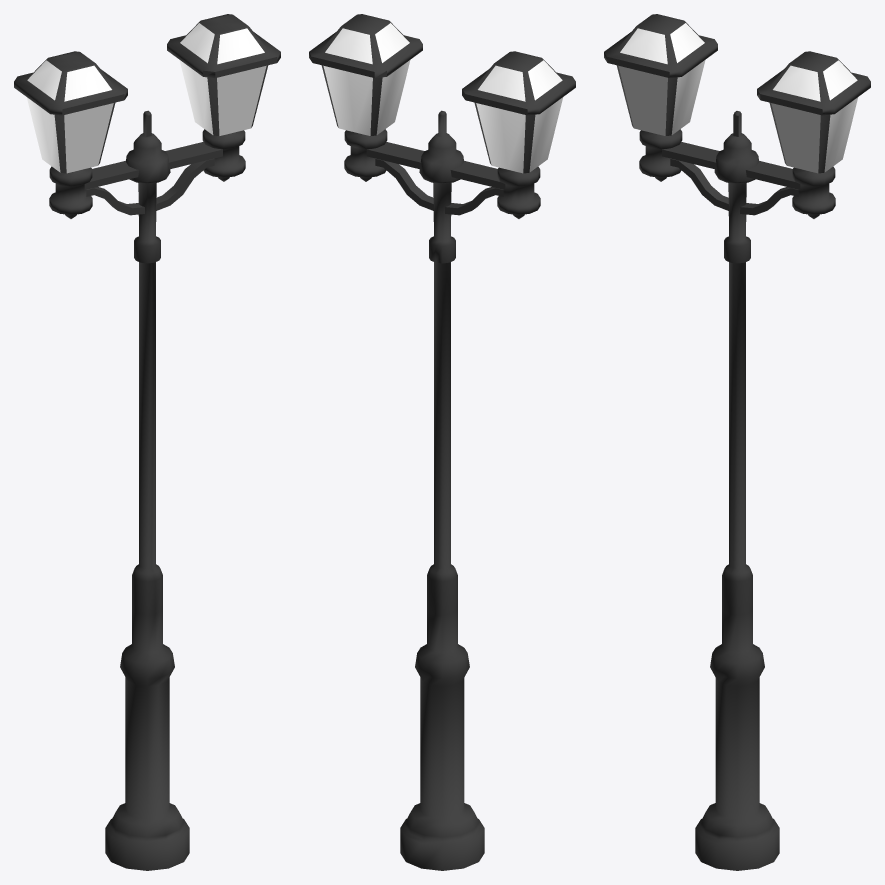
Rendered from nc_prop_lamp_victorian_01.fbx.
3 renders of one model, left to right at view 1: azimuth 30°, elevation 25°; view 2: azimuth 150°, elevation 25°; view 3: azimuth 330°, elevation 25°, orthographic.
Visible parts, largest first — view 1: nc_prop_lamp_victorian_01_LOD0; view 2: nc_prop_lamp_victorian_01_LOD0; view 3: nc_prop_lamp_victorian_01_LOD0.
Part boxes in pixels (x1=…): nc_prop_lamp_victorian_01_LOD0: x1=14, y1=14, x2=280, y2=870; nc_prop_lamp_victorian_01_LOD0: x1=309, y1=14, x2=575, y2=870; nc_prop_lamp_victorian_01_LOD0: x1=604, y1=14, x2=870, y2=870.
Size of what is drawn, in the model's own units: 0.6035 by 2.03 by 0.2036.
1 material, 1 textured.
